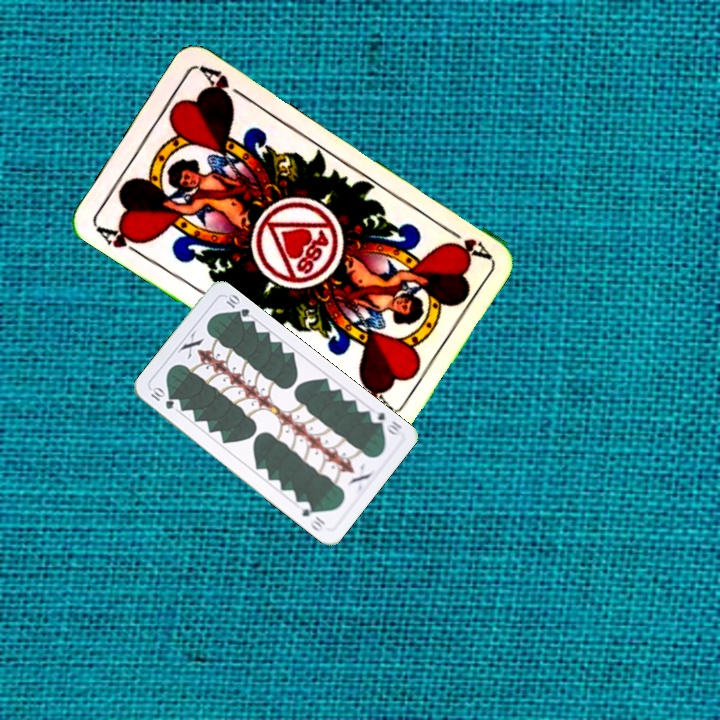G10: (366, 408, 405, 439), (147, 383, 177, 412)
HA: (439, 221, 492, 262), (92, 221, 147, 260)
